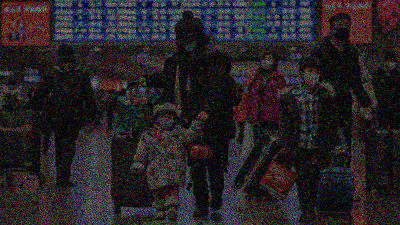with_mask: (333, 21, 351, 40), (302, 68, 320, 87), (157, 113, 173, 129), (181, 37, 196, 54), (261, 57, 273, 71), (385, 58, 396, 70)
